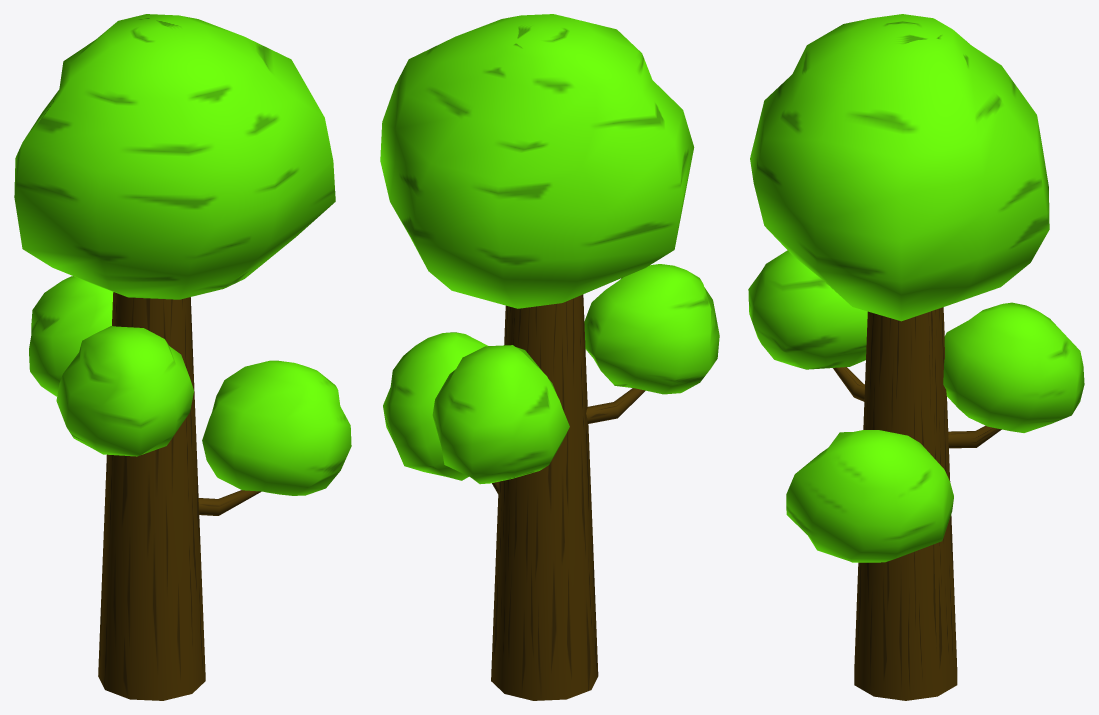
File: Arbol2_v3.fbx
The picture shows the model from 3 angles, left to right: view 1: azimuth 30°, elevation 25°; view 2: azimuth 150°, elevation 25°; view 3: azimuth 270°, elevation 25°; orthographic projection.
Parts seen in each view (by area): view 1: polySurface25; view 2: polySurface25; view 3: polySurface25.
Boxes of the visible parts, left/top/right/bottom form: polySurface25: left=14, top=14, right=351, bottom=700; polySurface25: left=380, top=14, right=719, bottom=700; polySurface25: left=748, top=14, right=1084, bottom=700.
Size of the model in its own units: 6.7 by 13.48 by 6.31.
